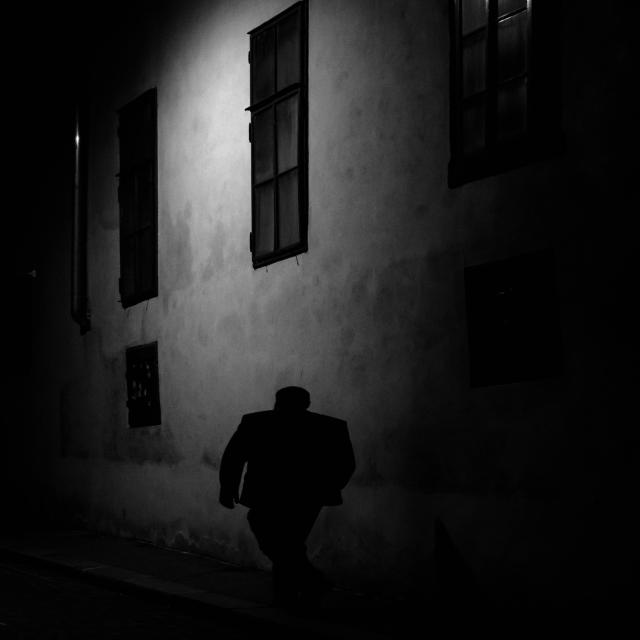adult: (216, 387, 352, 602)
